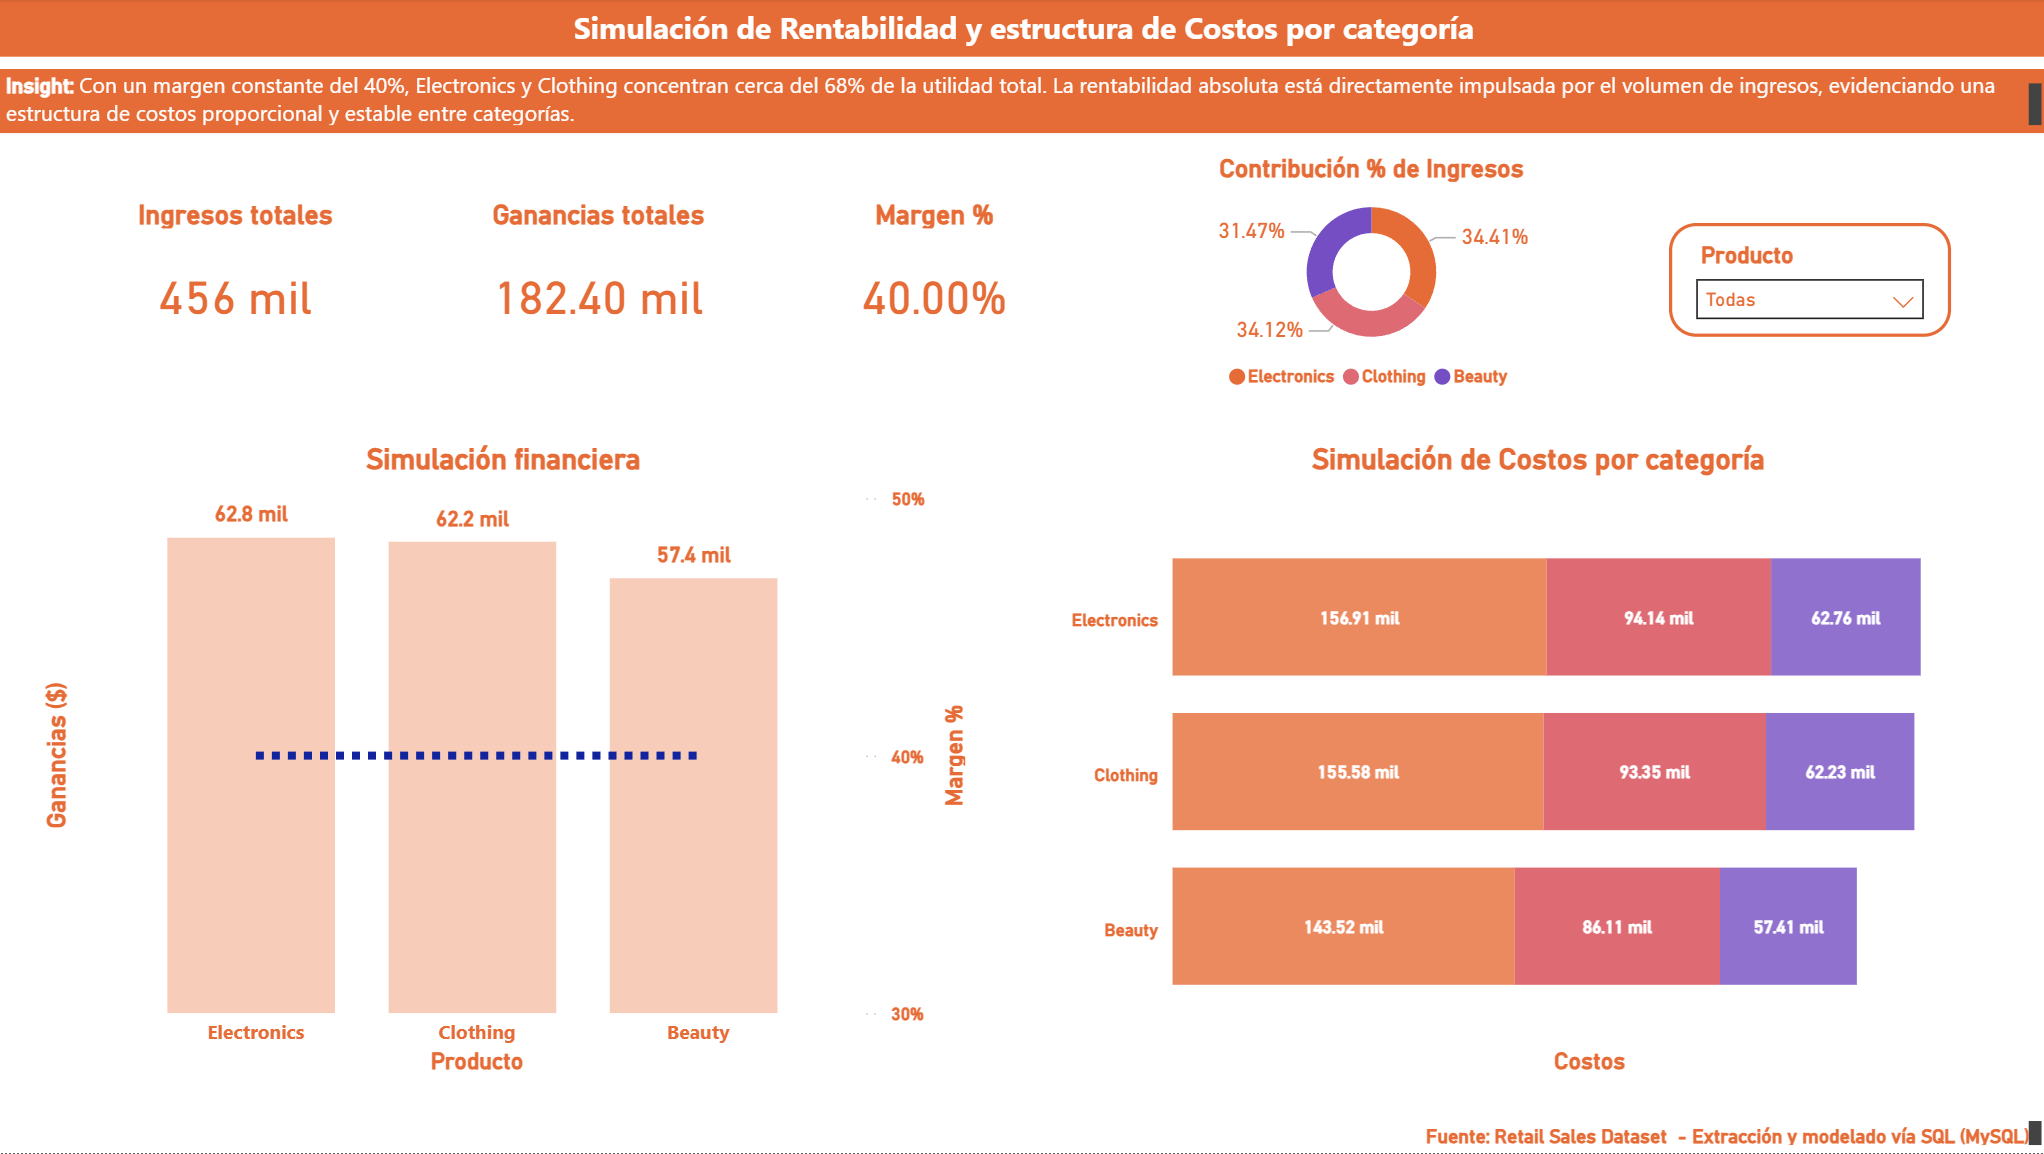

The dashboard page shown, as its layout file describes it:
{"tool":"powerbi","page":{"name":"Simulación financiera","canvas":[1280,720],"ordinal":2},"visuals":[{"type":"lineClusteredColumnComboChart","title":"Simulación financiera","fields":{"Category":["retail_sales simulacionfinanciera.product_category"],"Y":["Sum(retail_sales simulacionfinanciera.profit)"],"Y2":["Sum(retail_sales simulacionfinanciera.margen %)"]},"box":[22.5,276.4,585.9,399.3],"z":0},{"type":"barChart","title":"Simulación de Costos por categoría","fields":{"Category":["retail_sales simulacionfinanciera.product_category"],"Y":["Sum(retail_sales simulacionfinanciera.revenue)","Sum(retail_sales simulacionfinanciera.cost)","Sum(retail_sales simulacionfinanciera.profit)"]},"box":[663.8,276.4,594.6,399.3],"z":1000},{"type":"slicer","fields":{"Values":["retail_sales simulacionfinanciera.product_category"]},"box":[1042.6,139.8,175.9,70.5],"z":4000},{"type":"textbox","box":[0,695,1280.3,25],"z":4001},{"type":"textbox","box":[0,0,1280.3,35.6],"z":4002},{"type":"textbox","box":[0,43.7,1280.3,39.9],"z":4003},{"type":"card","title":"Ingresos totales","fields":{"Values":["retail_sales simulacionfinanciera.Total_revenue"]},"box":[61.1,124.2,174.1,102.3],"z":4004},{"type":"card","title":"Ganancias totales","fields":{"Values":["retail_sales simulacionfinanciera.Total_profit"]},"box":[287.6,124.2,174.1,102.3],"z":4005},{"type":"card","title":"Margen %","fields":{"Values":["Max(retail_sales simulacionfinanciera.margen %)"]},"box":[497.3,124.2,174.1,102.3],"z":4006},{"type":"donutChart","title":"Contribución % de Ingresos","fields":{"Y":["retail_sales simulacionfinanciera.Revenue Contribution %"],"Category":["retail_sales simulacionfinanciera.product_category"]},"box":[671.3,96.1,371.2,158.5],"z":4007}]}

Visuals, with their boxes in screenshot pixels (x1, y1, x2, y2), scaled from the page's 1280x720 canvas onto the 2044x1154 screenshot:
"Simulación financiera" lineClusteredColumnComboChart: bbox=[36, 443, 972, 1083]
"Simulación de Costos por categoría" barChart: bbox=[1060, 443, 2010, 1083]
slicer - retail_sales simulacionfinanciera.product_category: bbox=[1665, 224, 1946, 337]
textbox: bbox=[0, 1114, 2043, 1153]
textbox: bbox=[0, 0, 2043, 57]
textbox: bbox=[0, 70, 2043, 134]
"Ingresos totales" card: bbox=[98, 199, 376, 363]
"Ganancias totales" card: bbox=[459, 199, 737, 363]
"Margen %" card: bbox=[794, 199, 1072, 363]
"Contribución % de Ingresos" donutChart: bbox=[1072, 154, 1665, 408]
